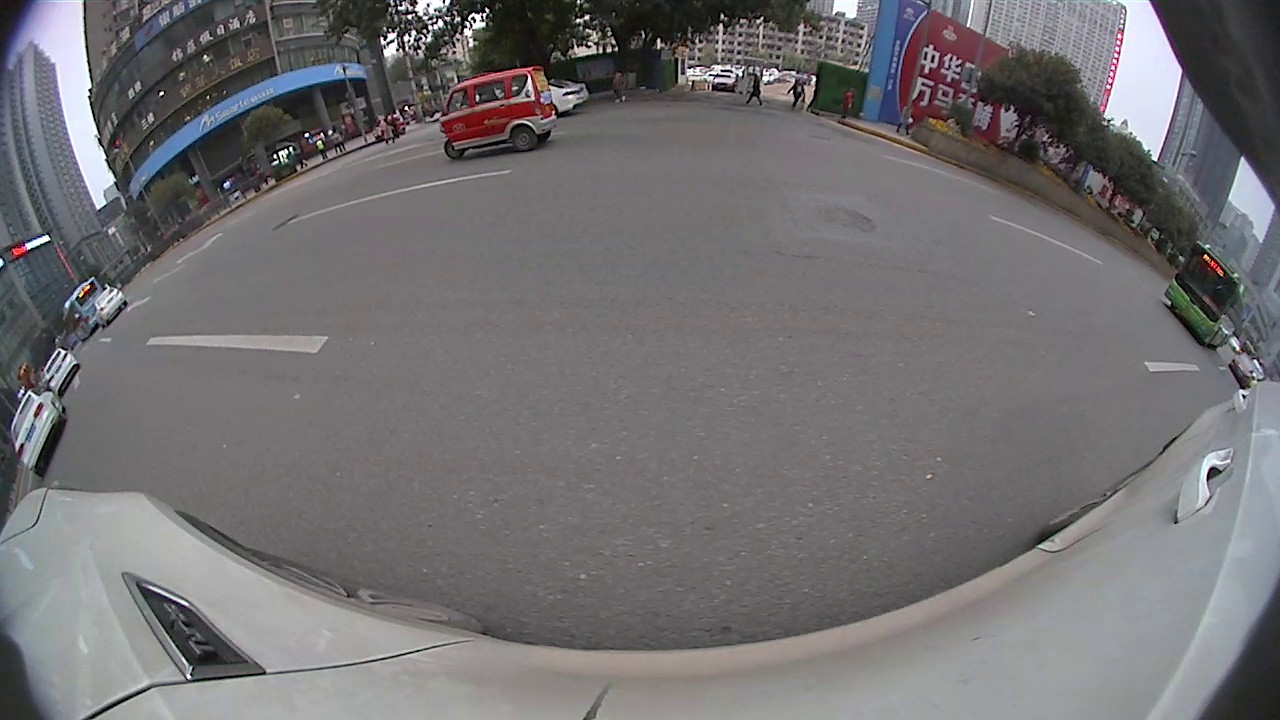bus: (1163, 241, 1246, 352), (63, 275, 107, 342)
car: (9, 386, 66, 478), (548, 78, 591, 115), (43, 347, 79, 389), (93, 285, 128, 324), (1229, 352, 1264, 390)
front: (443, 138, 467, 160)
rear: (510, 127, 540, 154)
rider: (437, 65, 558, 161)
